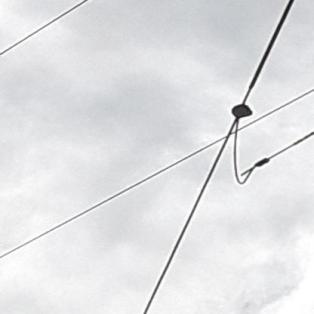Poste: (299, 0, 313, 314)
